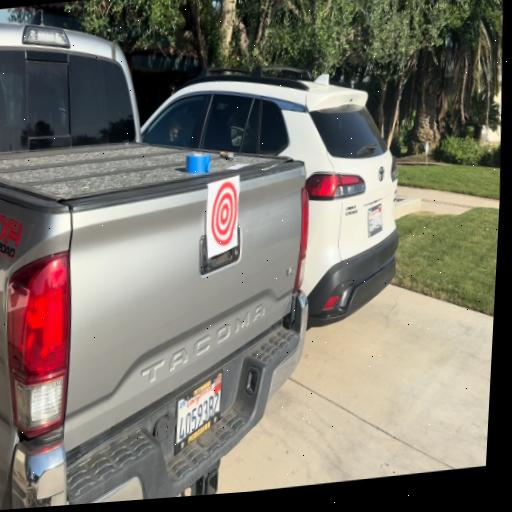bullseye: (210, 175, 238, 256)
